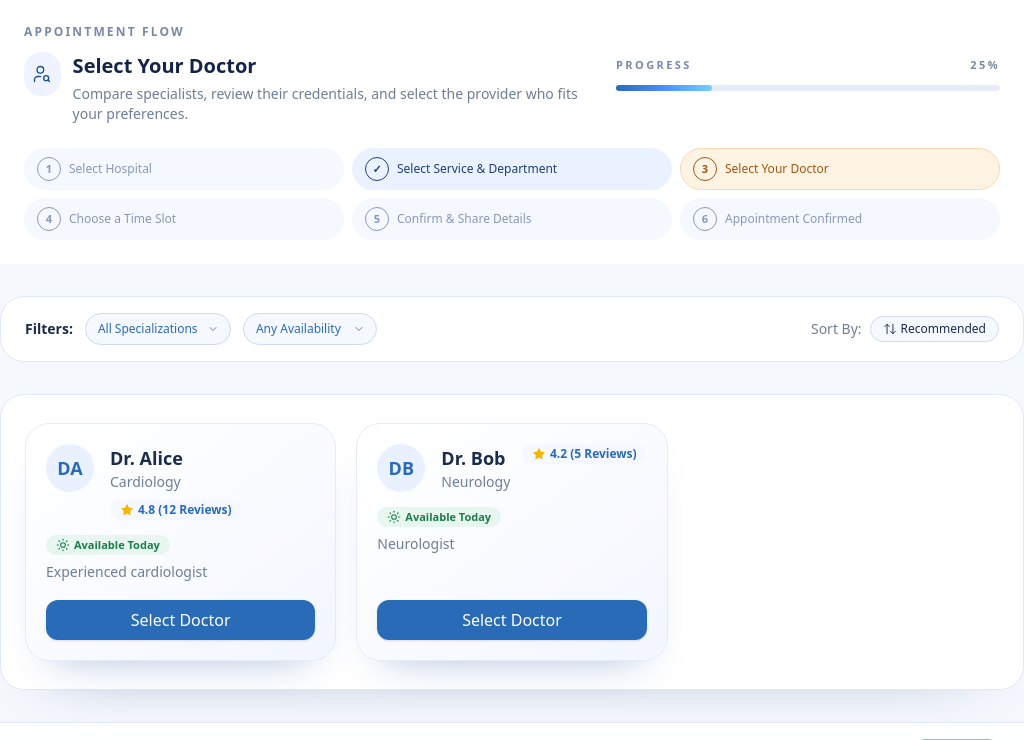
Scenario: SelectDoctor › filters by specialization select
Expected: the heading "Dr. Alice" is shown, [110,444,183,472]
Expected: the heading "Dr. Bob" is shown, [441,444,510,472]
Change specialization select to Cardiology
Select "Cardiology" in the 1st dropdown at (158, 329), box [85,313,231,345]
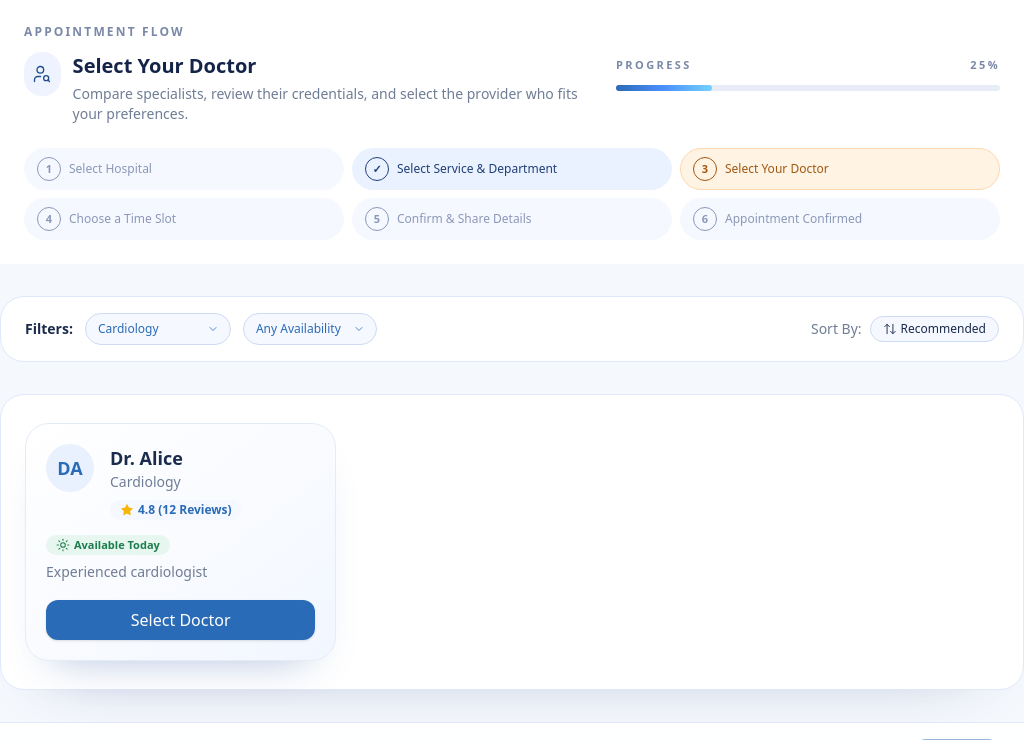
Expected: the heading "Dr. Alice" is shown, [110,444,183,472]
Expected: the heading "Dr. Bob" is gone
